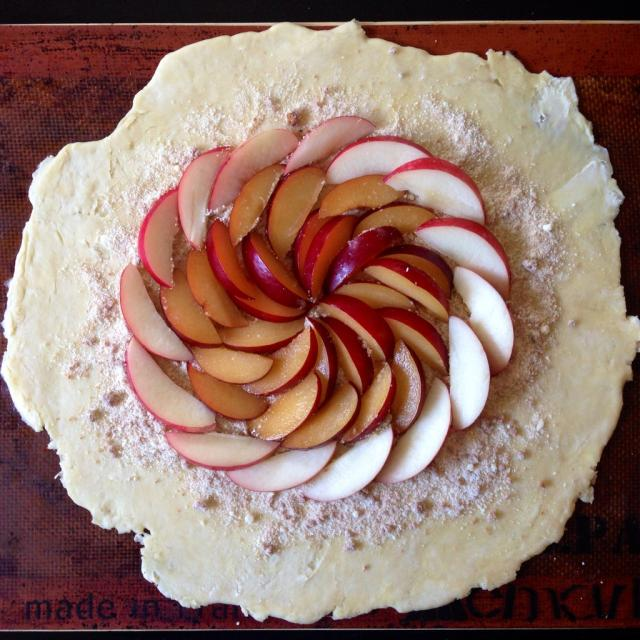Healty Apple: (120, 114, 513, 498), (118, 262, 194, 362)
